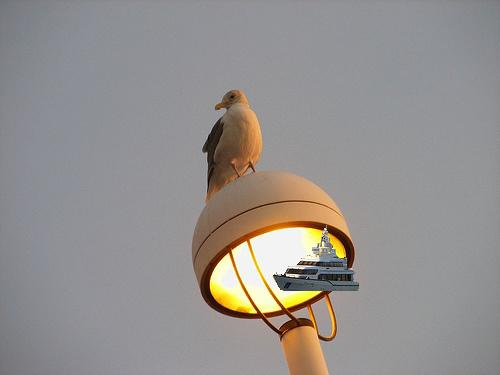tampered: (273, 226, 359, 291)
